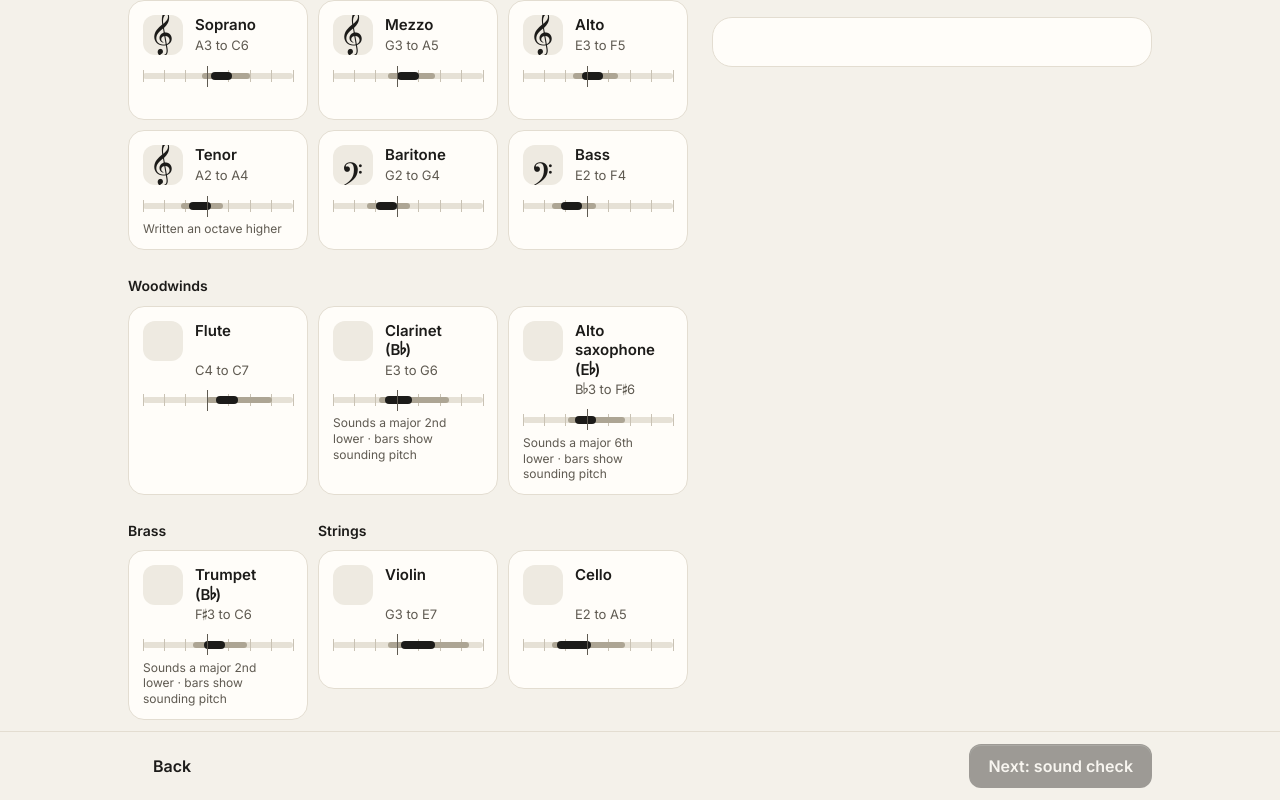
Test: OnboardingScreen › a measured timing check makes the first tries ranked and says the delay
Earlier steps of the test are not shown.
Later steps or results of the test are not shown.
(page scrolled)
Step 1. Click the radio button labelled "Flute C4 to C7" → (218,400), box [128,306,308,495]
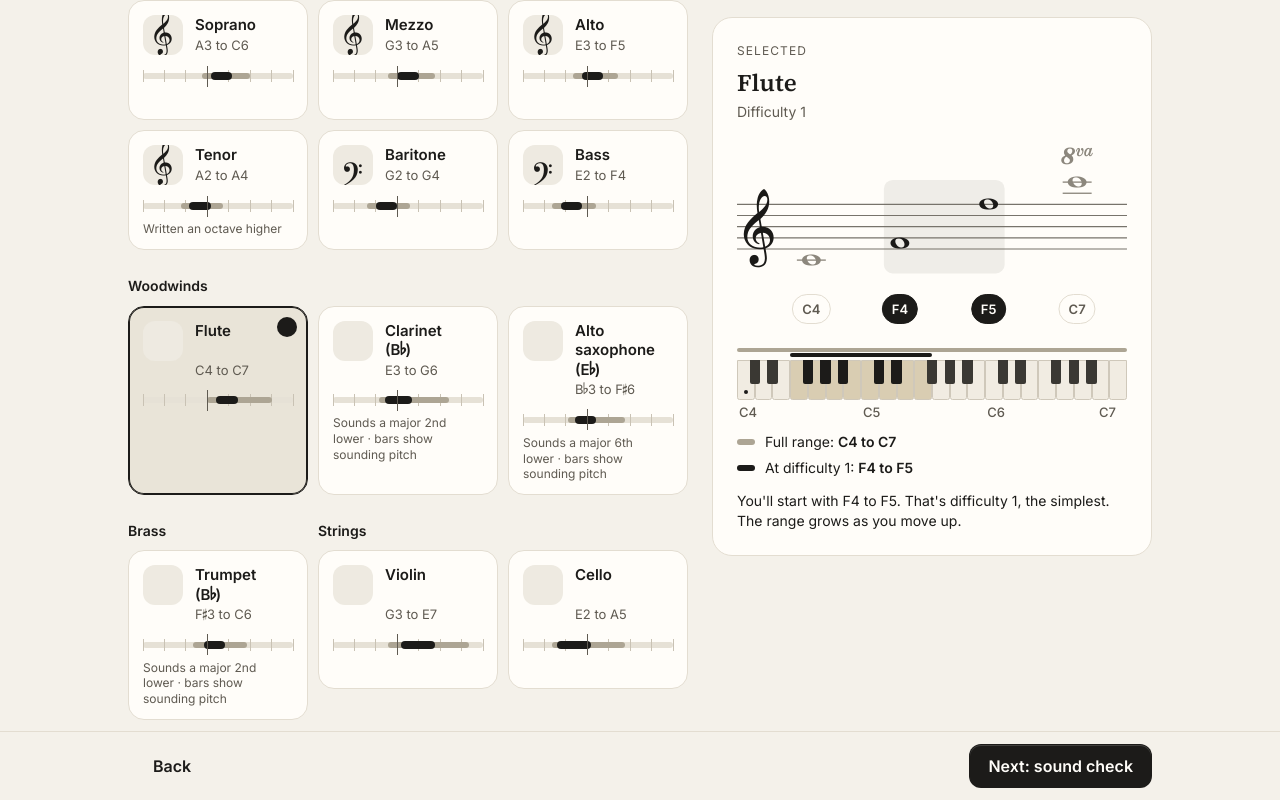
Step 2. Click the button "Next: sound check" → (1061,766), box [969,744,1152,788]
(page scrolled)
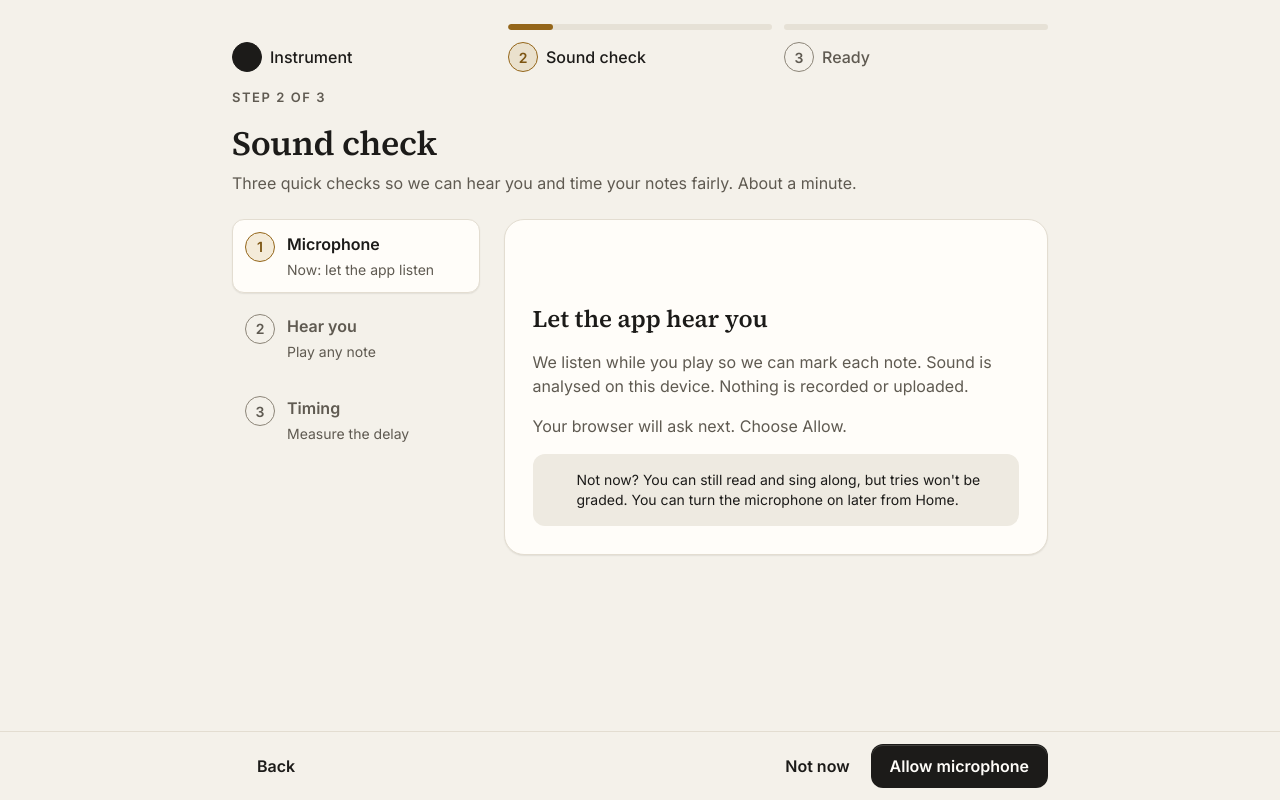
Step 3. Click the button "Allow microphone" → (959,766), box [871,744,1048,788]
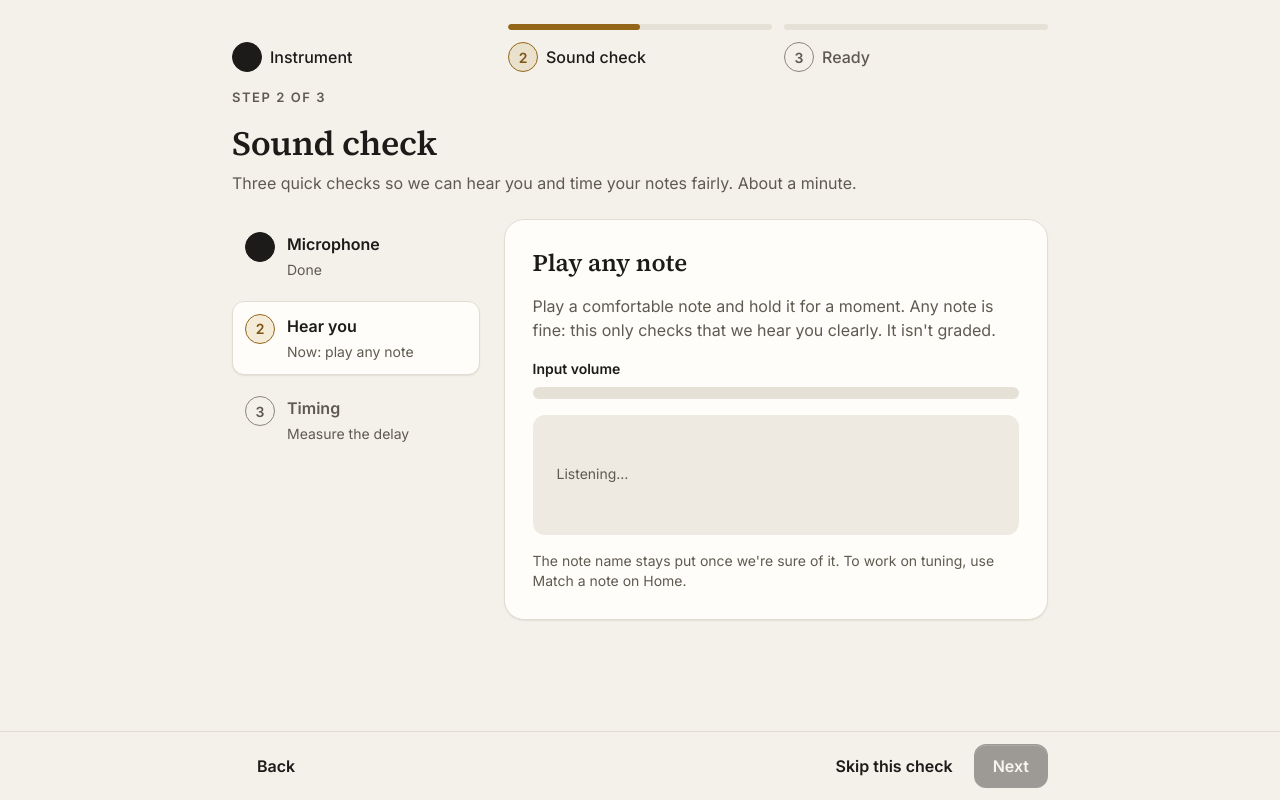
Step 4. Click the button "Skip this check" → (894,766), box [826,744,962,788]
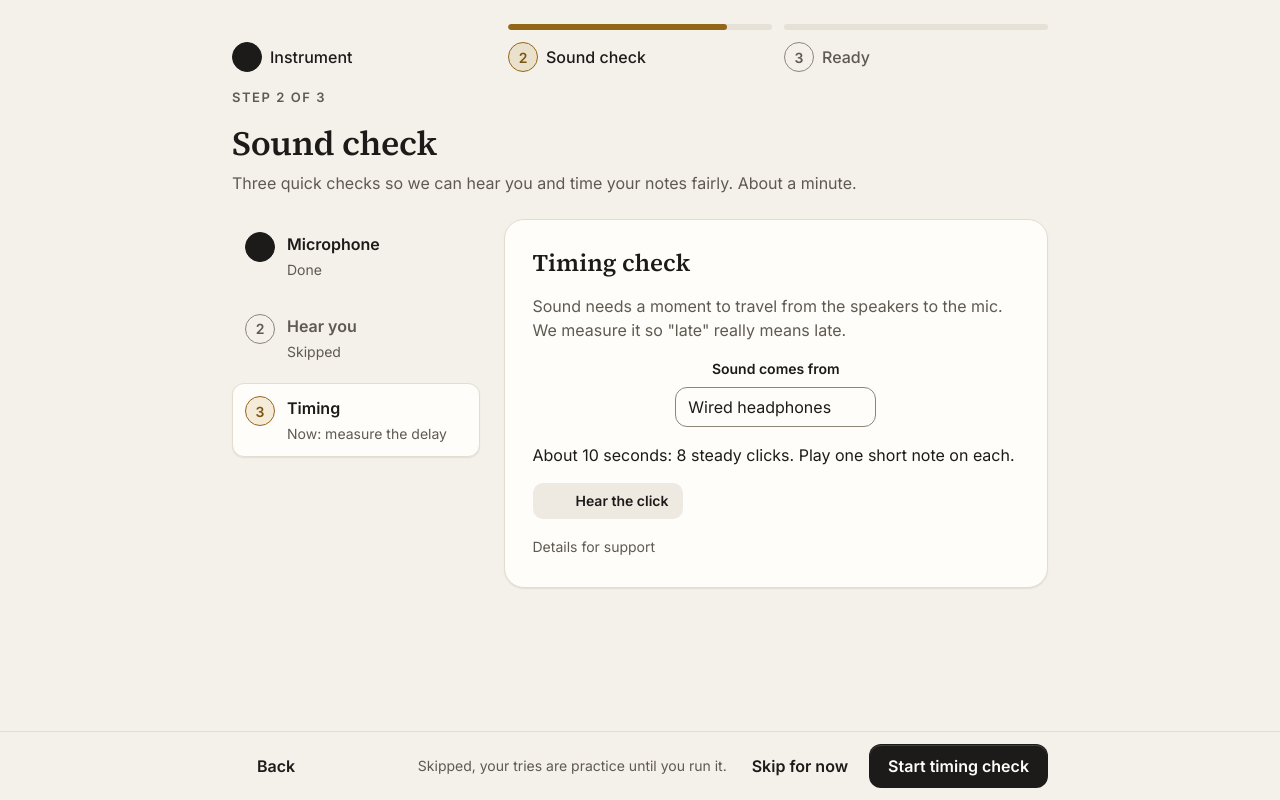
Step 5. Click the button "Start timing check" → (959,766), box [869,744,1048,788]
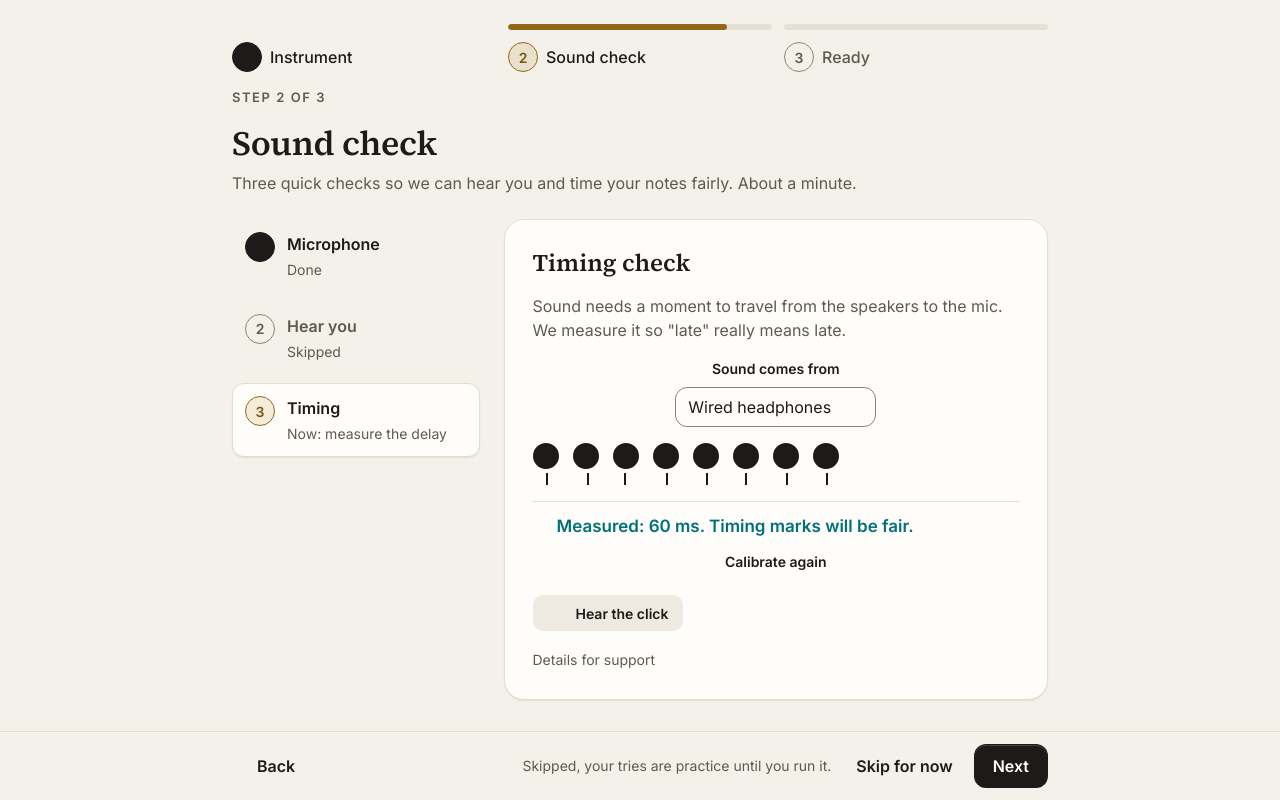
Expected: the text "Measured:" is shown, [556,516,914,536]
Step 6. Click the button "Next" → (1011,766), box [974,744,1048,788]
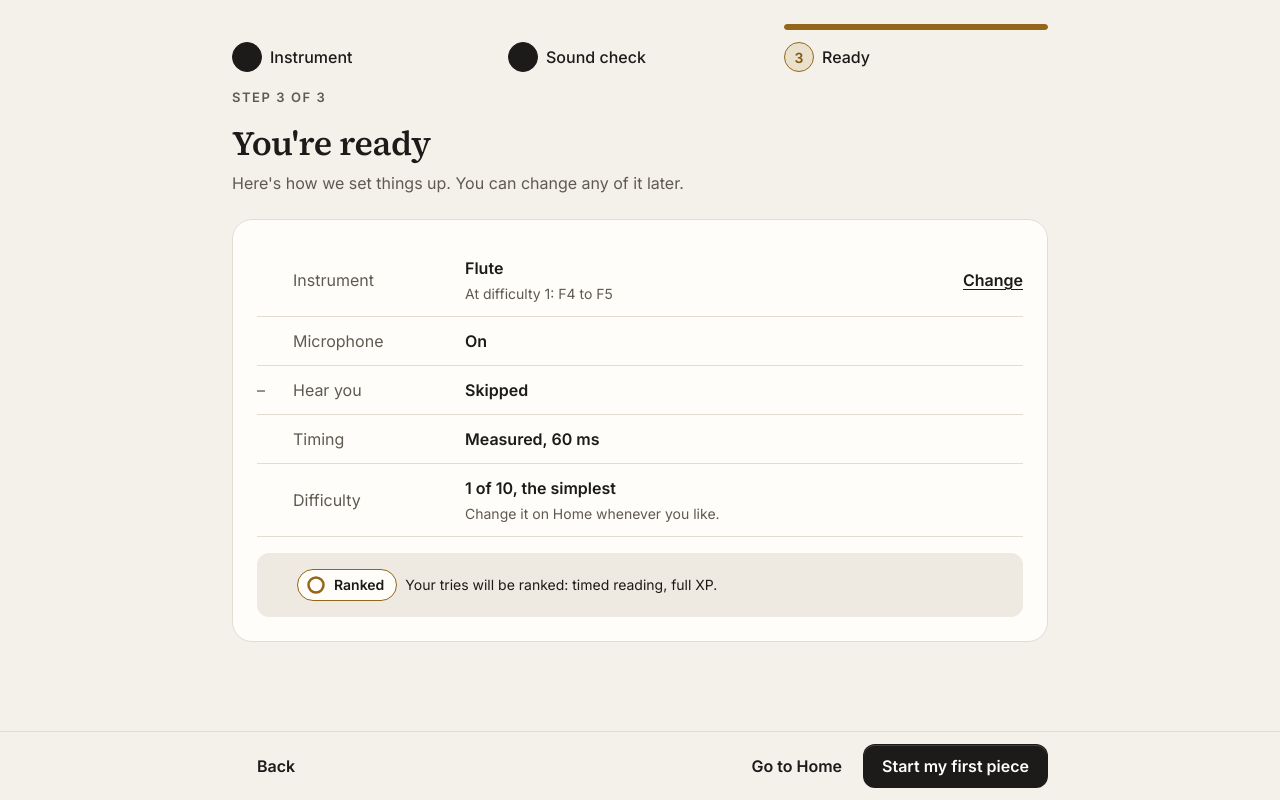
Expected: the list item "Timing Measured, 60 ms" is shown, [257,415,1023,464]
Expected: the list item "– Hear you Skipped" is shown, [257,366,1023,415]
